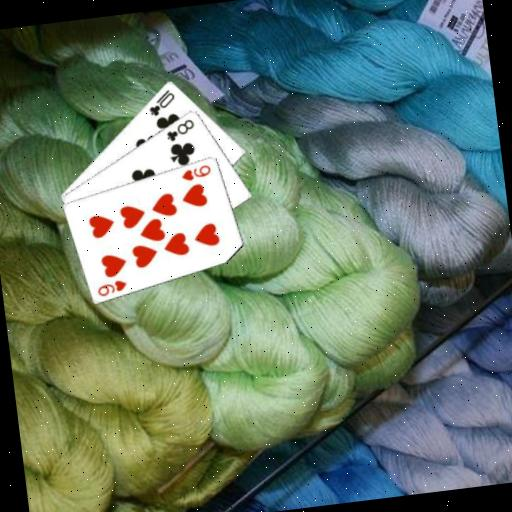10C: (144, 86, 179, 119)
8C: (162, 116, 197, 144)
9H: (178, 161, 214, 184), (94, 276, 130, 299)
